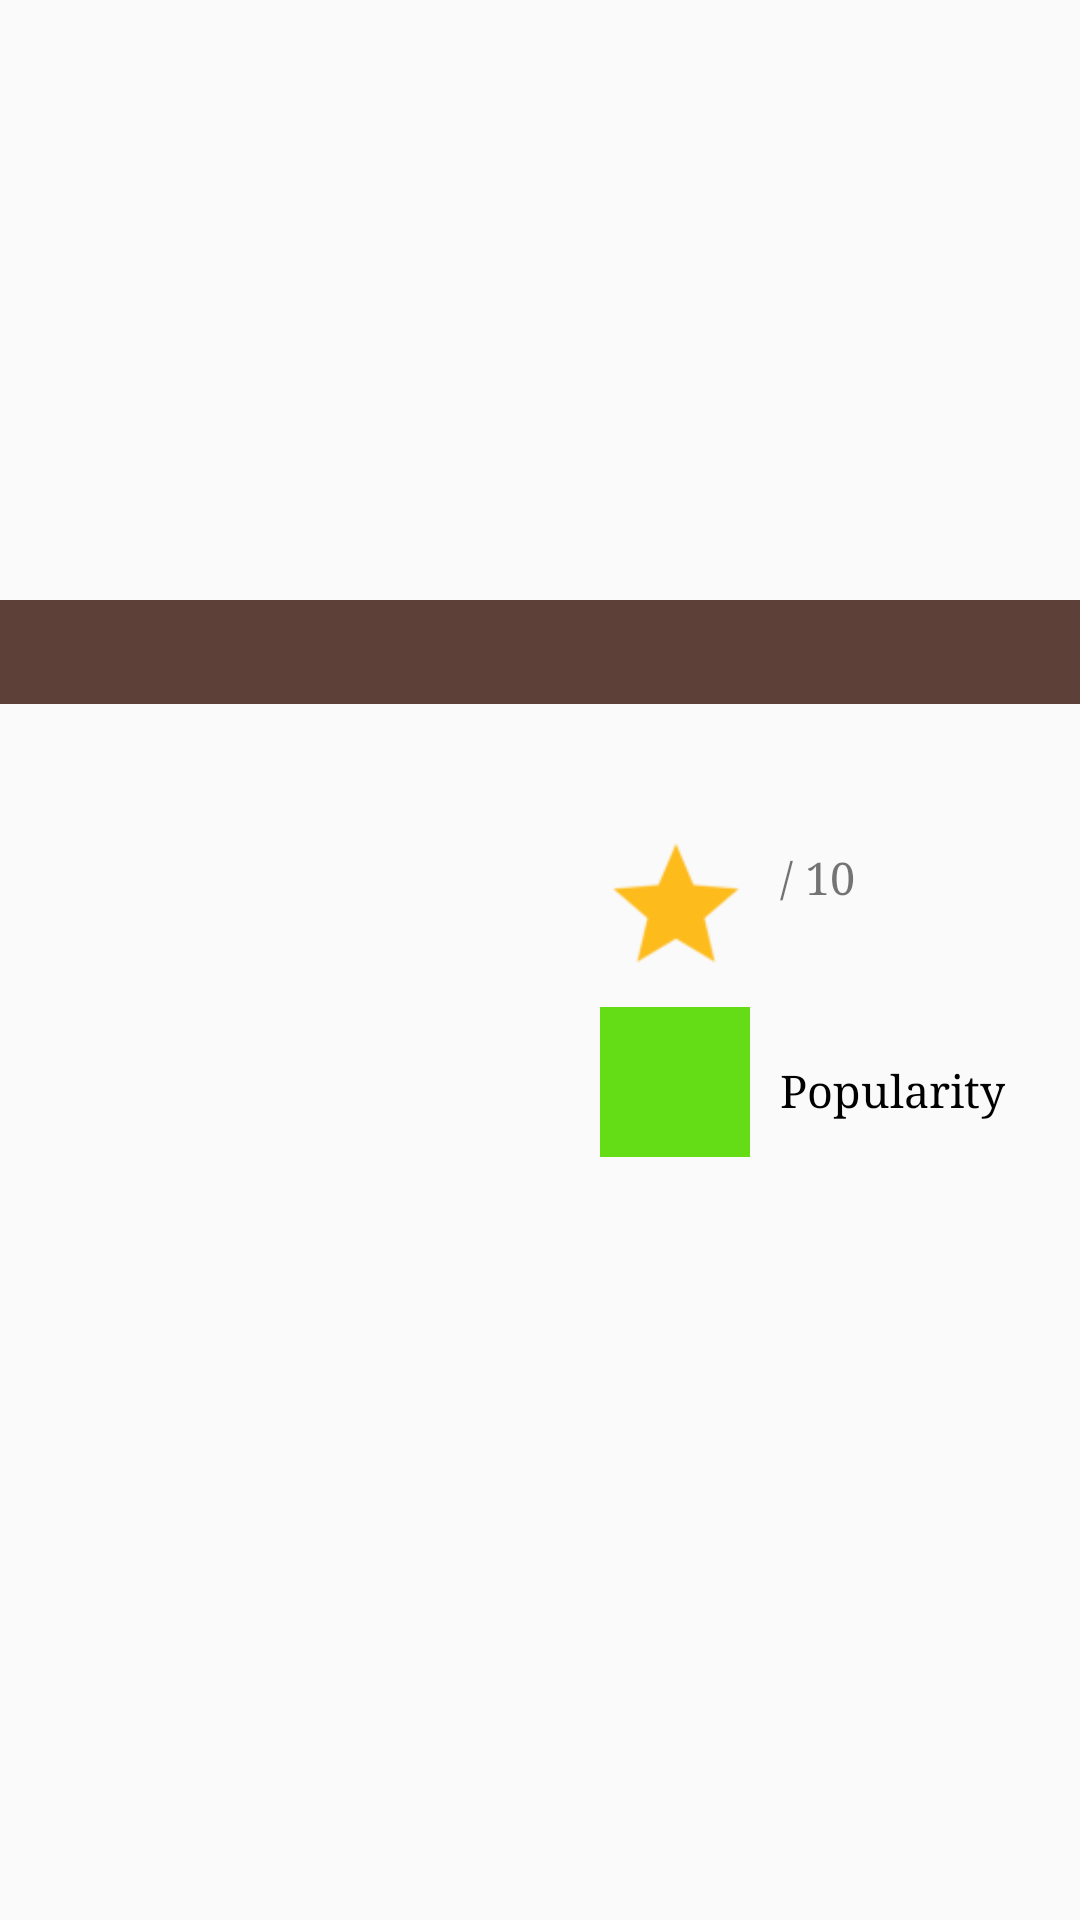

Icon bounding boxes for this 1080px x 1920px phone screenshot, format (x1, y1, x2, y2):
rate star: (613, 844, 739, 963)
